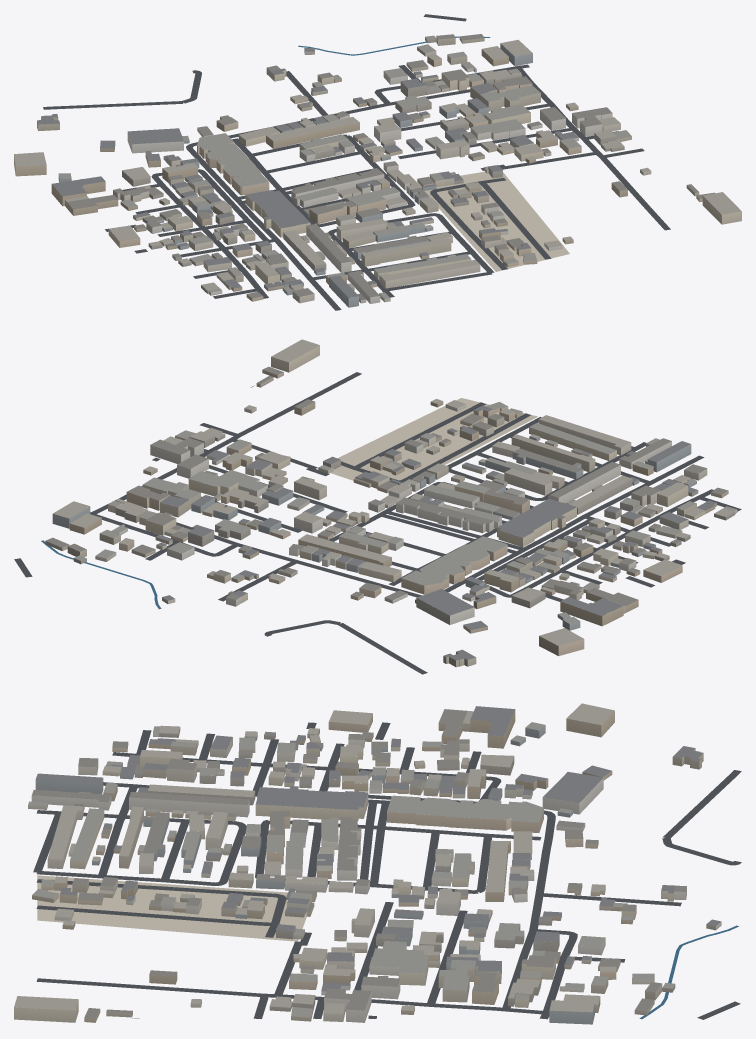
3 renders of one model, top to bottom at view 1: azimuth 30°, elevation 25°; view 2: azimuth 150°, elevation 25°; view 3: azimuth 270°, elevation 25°, orthographic. The views are drawn at different scales.
Parts seen in each view (by area): view 1: buildings_roofs, buildings_walls, roads, landuse; view 2: buildings_roofs, buildings_walls, roads, landuse; view 3: buildings_roofs, buildings_walls, roads, landuse.
Boxes of the visible parts, x1,y1,x2,y2 form: buildings_roofs: (14,34,741,300); buildings_walls: (14,36,741,307); roads: (43,14,670,310); landuse: (418,171,569,271); buildings_roofs: (45,339,736,660); buildings_walls: (45,345,737,667); roads: (14,372,741,674); landuse: (317,398,537,480); buildings_roofs: (14,703,721,1018); buildings_walls: (14,710,721,1024); roads: (33,722,741,1019); landuse: (37,875,306,941).
Size of the model in its own units: 522 by 9.62 by 519.
